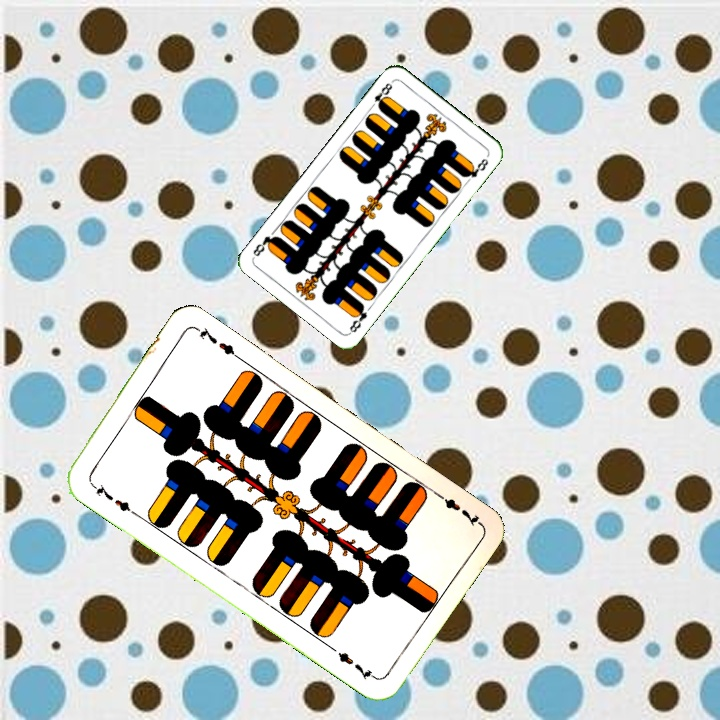E7: (430, 488, 482, 529), (86, 478, 138, 517)
E8: (366, 79, 395, 112), (345, 300, 370, 335)
